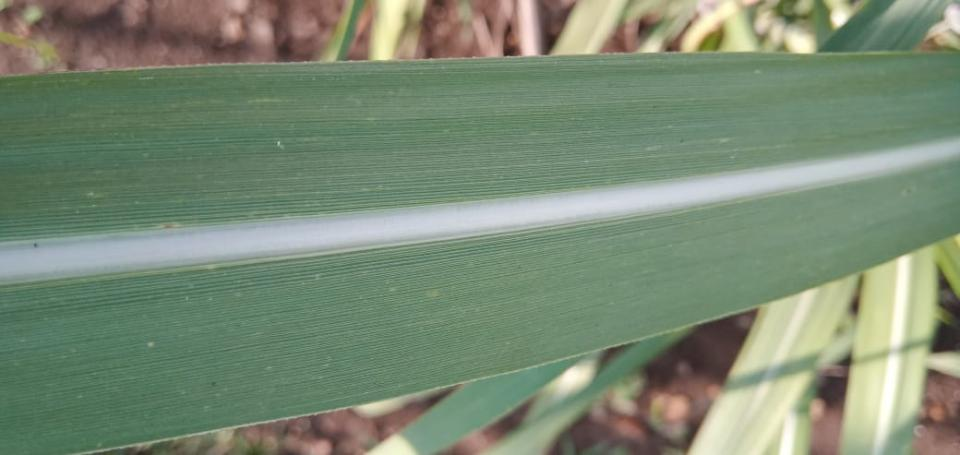Healthy: (0, 54, 959, 454)
